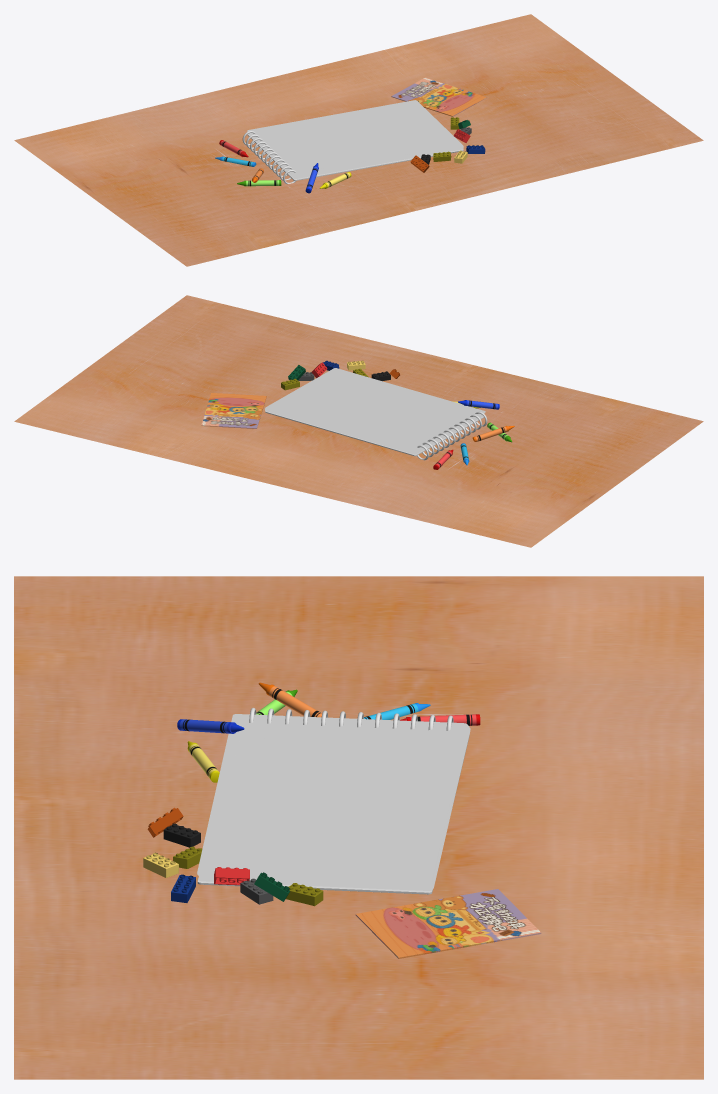
File: color Paper Table.fbx
The picture shows the model from 3 angles, top to bottom: view 1: azimuth 30°, elevation 25°; view 2: azimuth 150°, elevation 25°; view 3: azimuth 270°, elevation 25°; orthographic projection. The views are drawn at different scales.
Visible parts, largest first — view 1: Plane.001, paper1, poster, Cylinder, paper side, paper2; view 2: Plane.001, paper1, poster, Cylinder, paper side, paper2; view 3: Plane.001, paper1, poster, Cylinder, paper side.
Boxes of the visible parts, <box> form: Plane.001: <box>14,14,703,266</box>; paper1: <box>247,100,463,178</box>; poster: <box>391,77,486,116</box>; Cylinder: <box>215,140,351,193</box>; paper side: <box>242,131,296,184</box>; paper2: <box>247,134,463,180</box>; Plane.001: <box>14,295,703,547</box>; paper1: <box>265,368,485,454</box>; poster: <box>201,393,266,428</box>; Cylinder: <box>433,400,514,469</box>; paper side: <box>417,411,487,460</box>; paper2: <box>265,411,484,456</box>; Plane.001: <box>14,576,703,1079</box>; paper1: <box>197,714,470,890</box>; poster: <box>355,889,541,958</box>; Cylinder: <box>177,682,480,782</box>; paper side: <box>249,707,453,730</box>.
Bounding box in the file's own units: 23596 × 881 × 13662.
13 materials, 3 textured.
